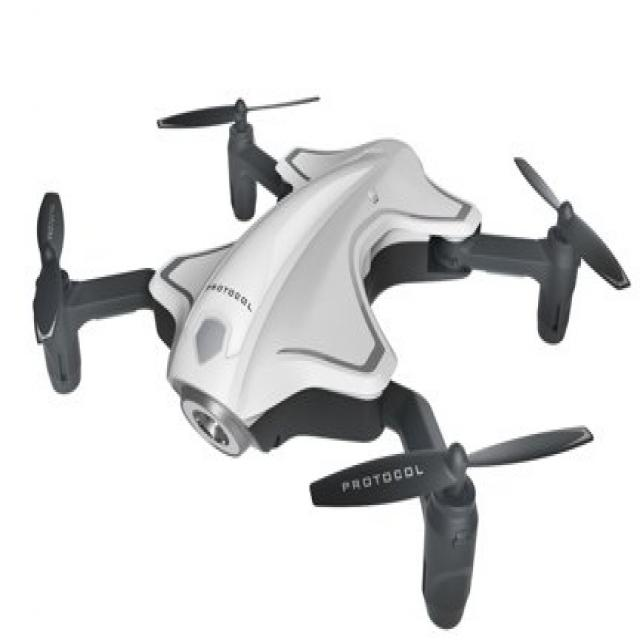drone: (0, 82, 640, 635)
